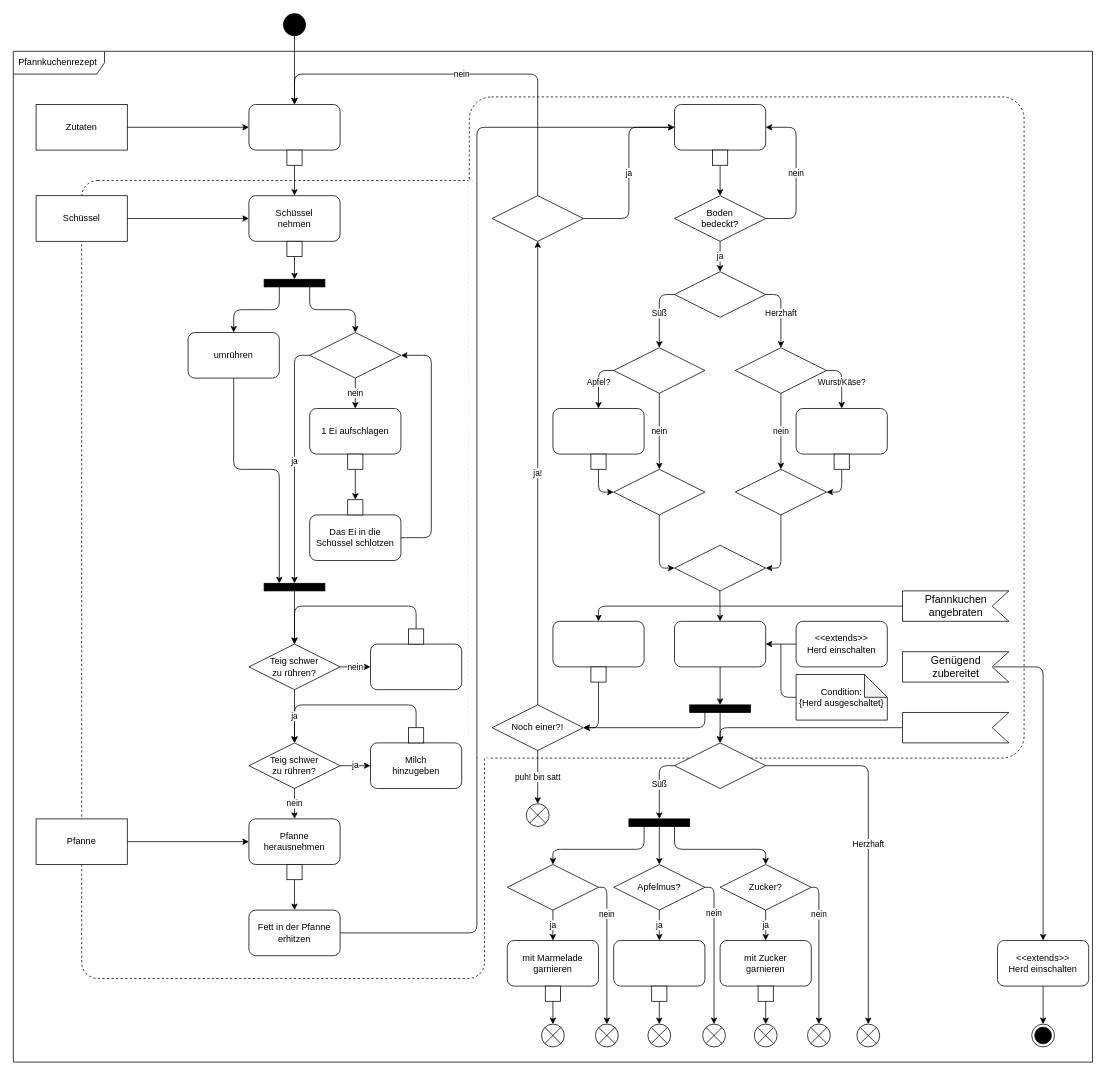
Some shapes in this 1106 by 1075 pixel diagram are drawn without their labels. The centre of each missing label's shape, as x and y in pixels:
4 Eier genutzt?: the point at 355,355
Apfelscheiben dazu geben: the point at 598,431
Eine Zutat leer: the point at 955,727
fehlerhaften Pfannkuchen entsorgen: the point at 598,644
genügend Teig?: the point at 537,218
Marmelade?: the point at 552,887
Mehl hinzugeben: the point at 416,666
mit Apfelmus garnieren: the point at 659,963
Pfannkuchen mit Wurst/Käse belegen: the point at 841,431
Pfannkuchen von beiden Seiten anbraten: the point at 720,644
Teil der Masse in die Pfanne geben: the point at 720,127
Zutaten (inkl. Schüssel und Pfanne) kaufen/ rauslegen: the point at 294,127
